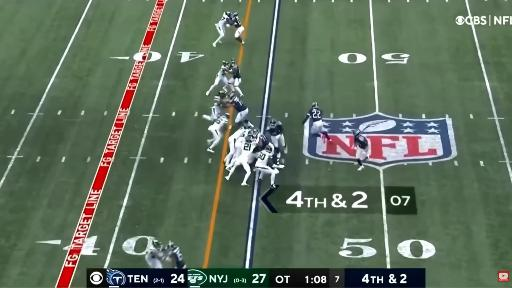Helmet: (269, 119, 278, 129), (167, 242, 179, 249), (151, 240, 162, 245), (265, 144, 271, 152), (247, 136, 255, 142), (228, 93, 234, 101), (252, 128, 258, 135), (218, 91, 226, 96), (223, 60, 229, 66), (231, 58, 236, 65), (231, 12, 238, 17), (354, 130, 359, 136), (313, 102, 318, 108), (225, 10, 230, 16), (226, 113, 231, 118)
Jersey: (255, 144, 273, 167), (238, 141, 256, 160), (172, 246, 185, 268), (254, 133, 269, 152), (230, 97, 247, 112), (266, 121, 283, 136), (144, 248, 161, 263), (308, 108, 322, 122), (230, 127, 246, 139), (212, 117, 228, 129), (355, 135, 368, 149), (212, 96, 223, 110), (230, 66, 241, 78), (220, 12, 231, 23), (217, 66, 227, 77), (232, 16, 241, 28)
Player: (226, 136, 255, 185), (224, 120, 253, 164), (255, 144, 283, 187), (303, 103, 330, 140), (207, 114, 229, 152), (206, 62, 230, 95), (267, 119, 287, 158), (213, 12, 232, 46), (352, 130, 368, 170), (145, 240, 167, 268), (228, 60, 243, 97), (166, 241, 186, 268), (230, 95, 248, 123), (203, 96, 222, 121), (231, 13, 244, 45)
